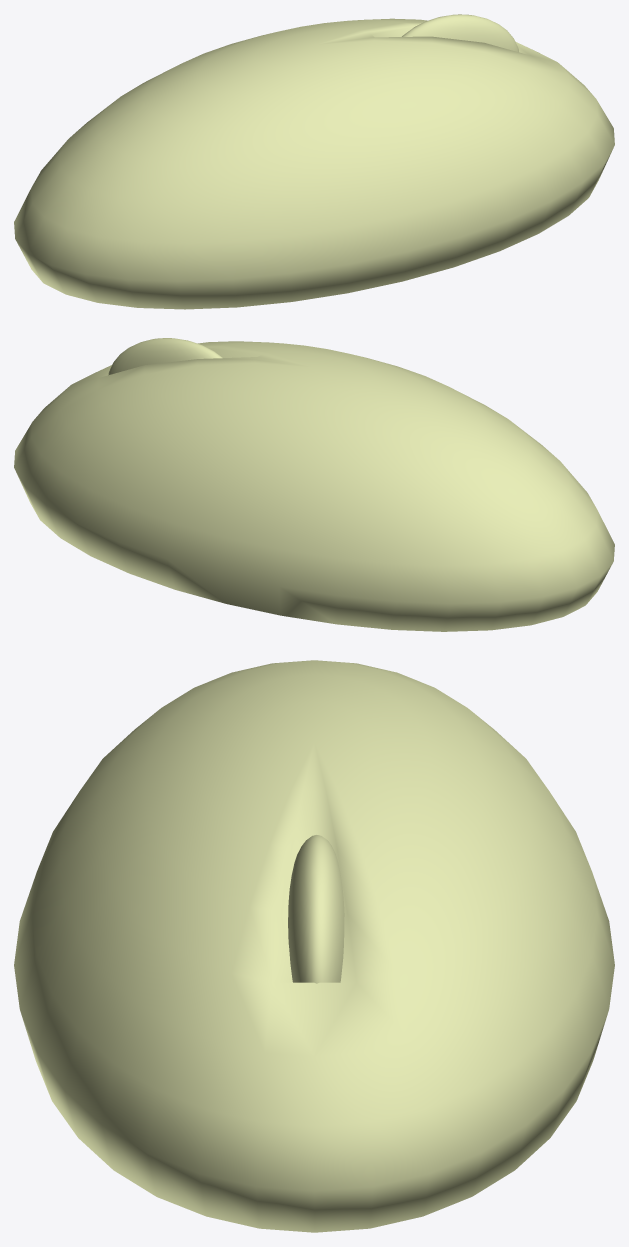
File: computer mouse fbx.fbx
3 renders of one model, top to bottom at view 1: azimuth 30°, elevation 25°; view 2: azimuth 150°, elevation 25°; view 3: azimuth 270°, elevation 25°, orthographic. The views are drawn at different scales.
Visible parts, largest first — view 1: Sphere; view 2: Sphere; view 3: Sphere.
Part boxes in pixels (x1,y1,x2,y2): Sphere: [14, 14, 614, 309]; Sphere: [14, 338, 614, 631]; Sphere: [14, 660, 614, 1232].
Bounding box in the file's own units: 349 × 100 × 196.
